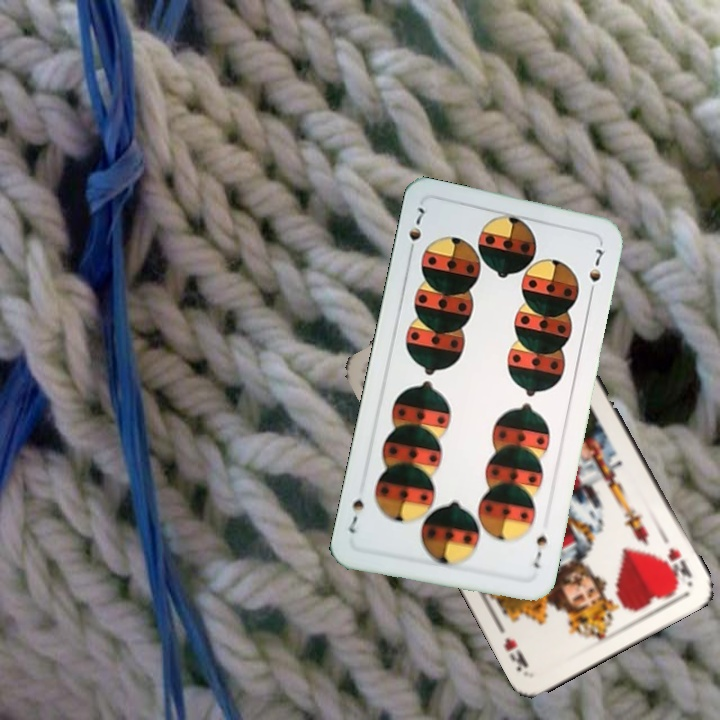HK: (657, 531, 695, 588)
S7: (404, 203, 428, 260), (529, 529, 550, 571)
